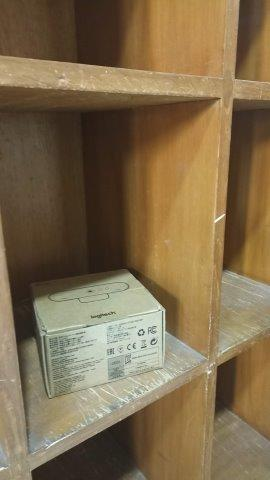kardus: (30, 270, 165, 396)
